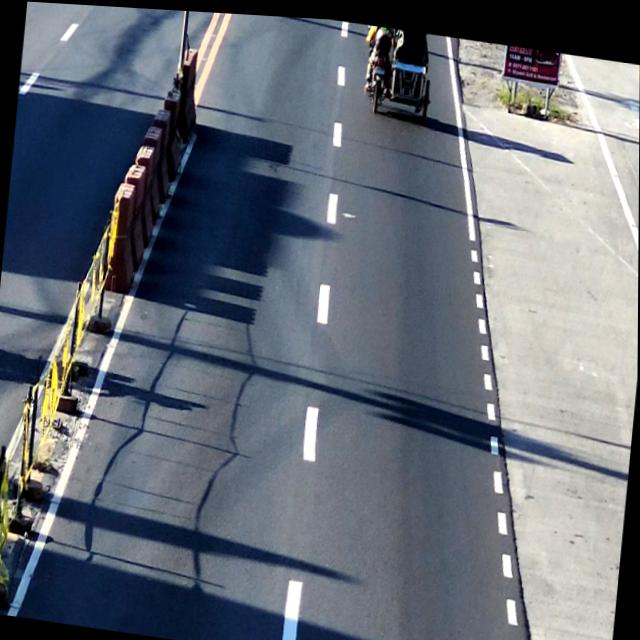Tricycle: (360, 20, 432, 114)
